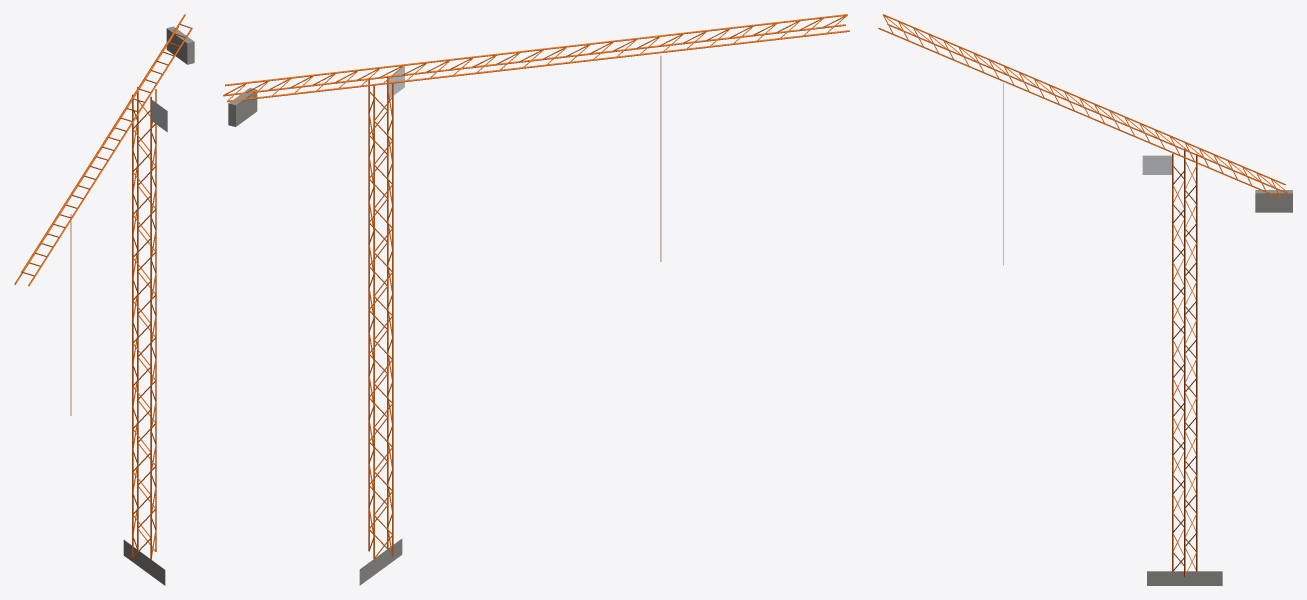
3 views of the same model, side by side, from view 1: azimuth 30°, elevation 25°; view 2: azimuth 150°, elevation 25°; view 3: azimuth 270°, elevation 25° (orthographic). The views are drawn at different scales.
Parts seen in each view (by area): view 1: crane; view 2: crane; view 3: crane.
Boxes of the visible parts, x1,y1,x2,y2 form: crane: (14, 14, 194, 585); crane: (223, 14, 849, 585); crane: (878, 14, 1292, 585).
Bounding box in the file's own units: 38.67 × 45.98 × 38.9.
